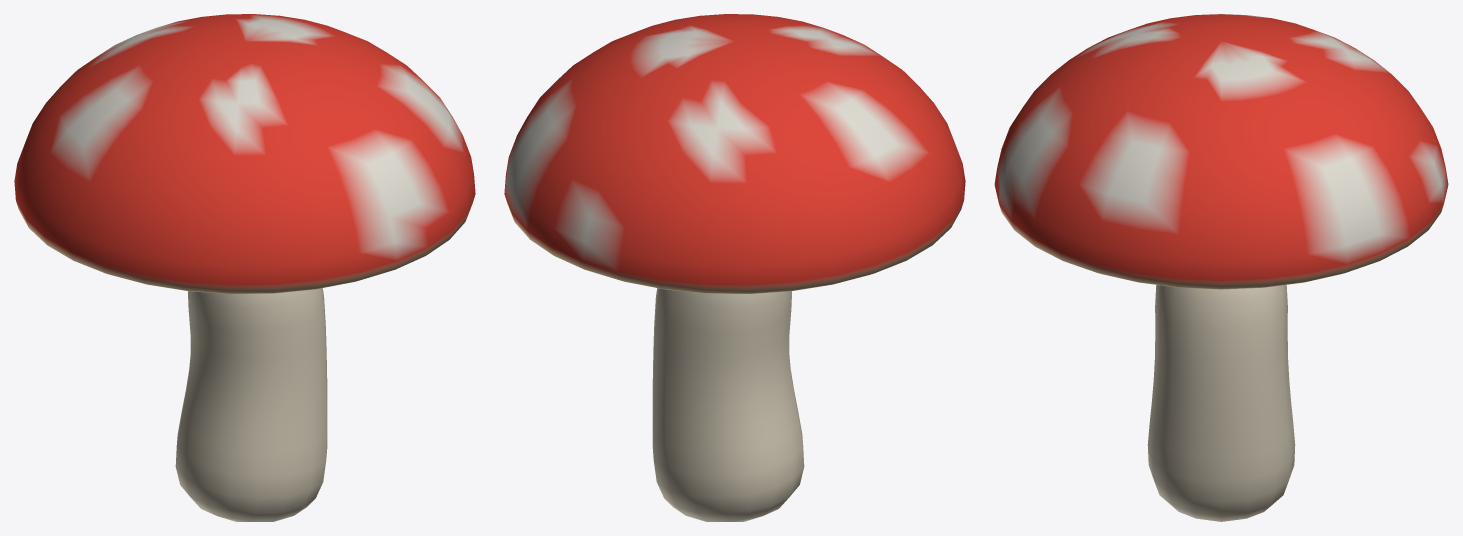
File: one_shroom.glb
3 views of the same model, side by side, from view 1: azimuth 30°, elevation 25°; view 2: azimuth 150°, elevation 25°; view 3: azimuth 270°, elevation 25° (orthographic).
Parts seen in each view (by area): view 1: one_shroom; view 2: one_shroom; view 3: one_shroom.
Part boxes in pixels (<box>): one_shroom: <box>14,14,475,521</box>; one_shroom: <box>504,14,965,521</box>; one_shroom: <box>994,14,1448,521</box>.
Bounding box in the file's own units: 0.2301 × 0.2597 × 0.2301.
